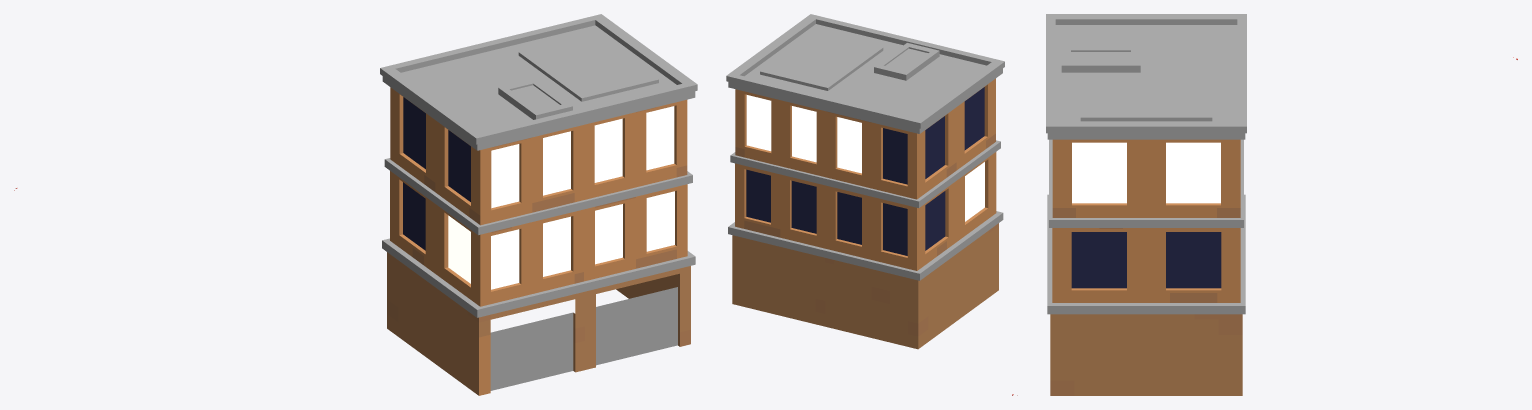
Rendered from house1.glb.
3 renders of one model, left to right at view 1: azimuth 30°, elevation 25°; view 2: azimuth 150°, elevation 25°; view 3: azimuth 270°, elevation 25°, orthographic. The views are drawn at different scales.
Bounding box in the file's own units: 32.55 × 17.69 × 27.72.
